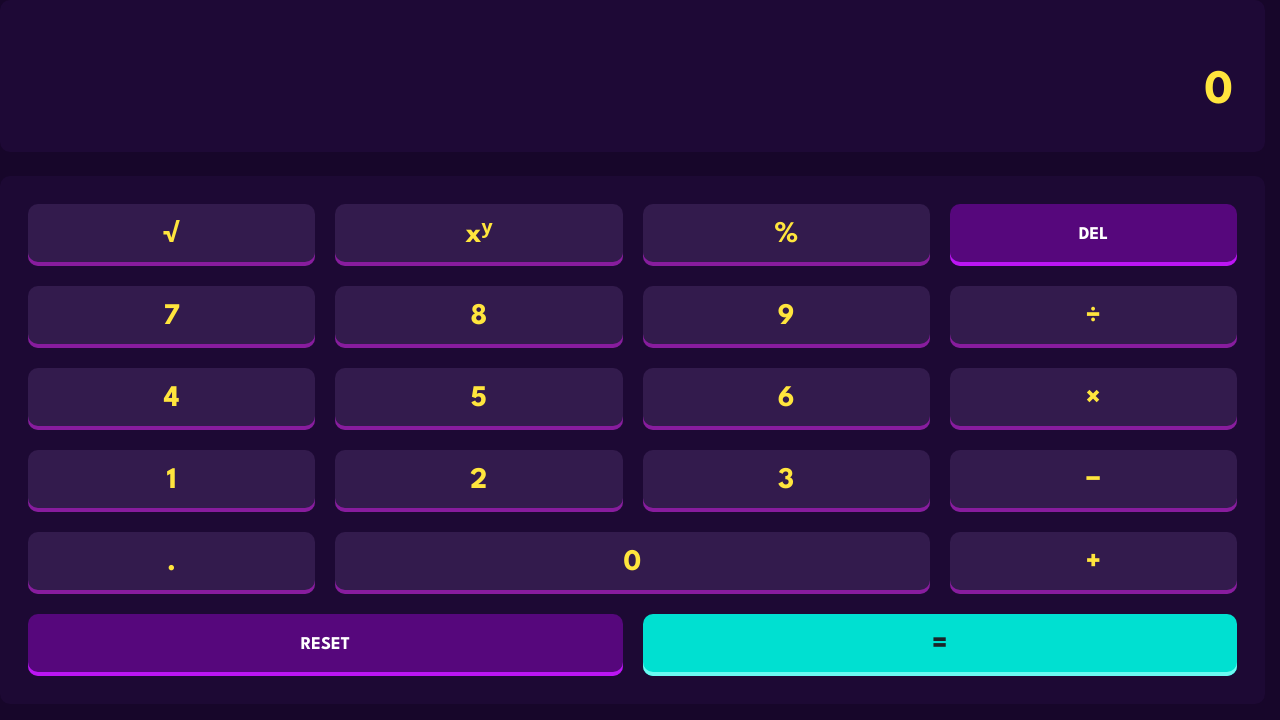
Calculator › error handling › shows the message returned by the API
Step 1. Click the button "9" → (786, 317), box [642,286,930,348]
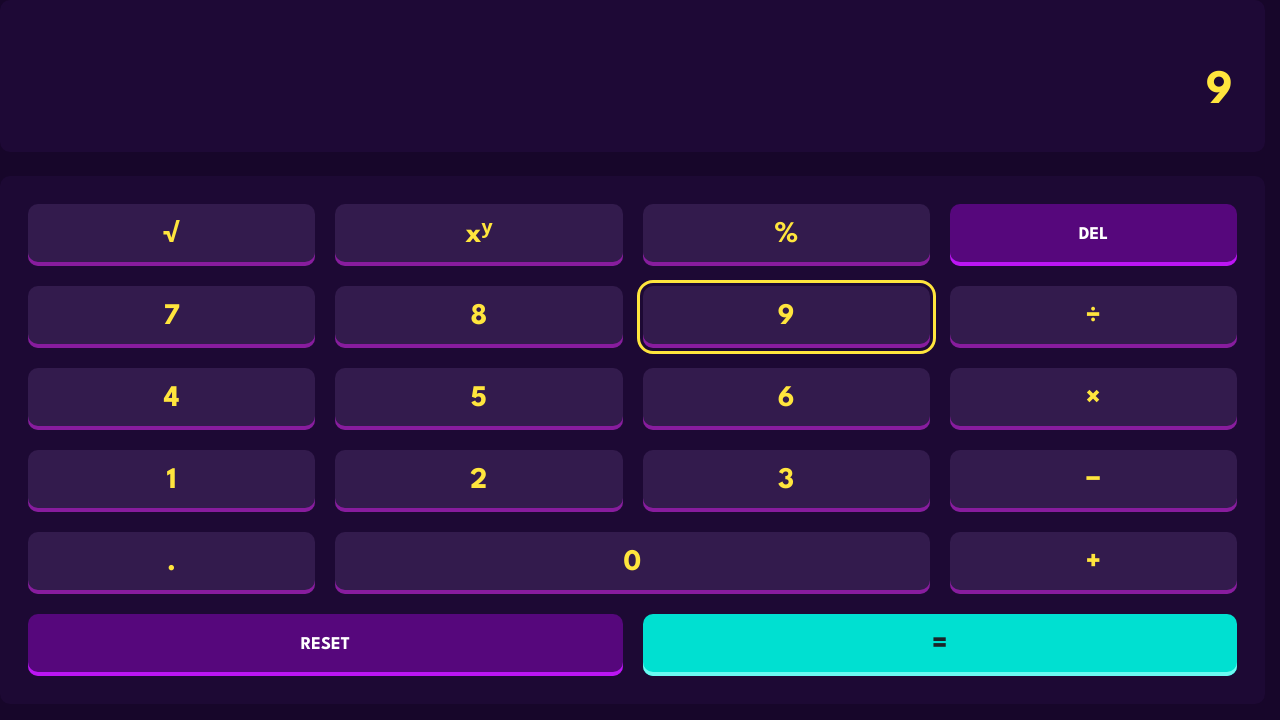
Step 2. Click the button "xʸ" → (479, 235), box [335,204,623,266]
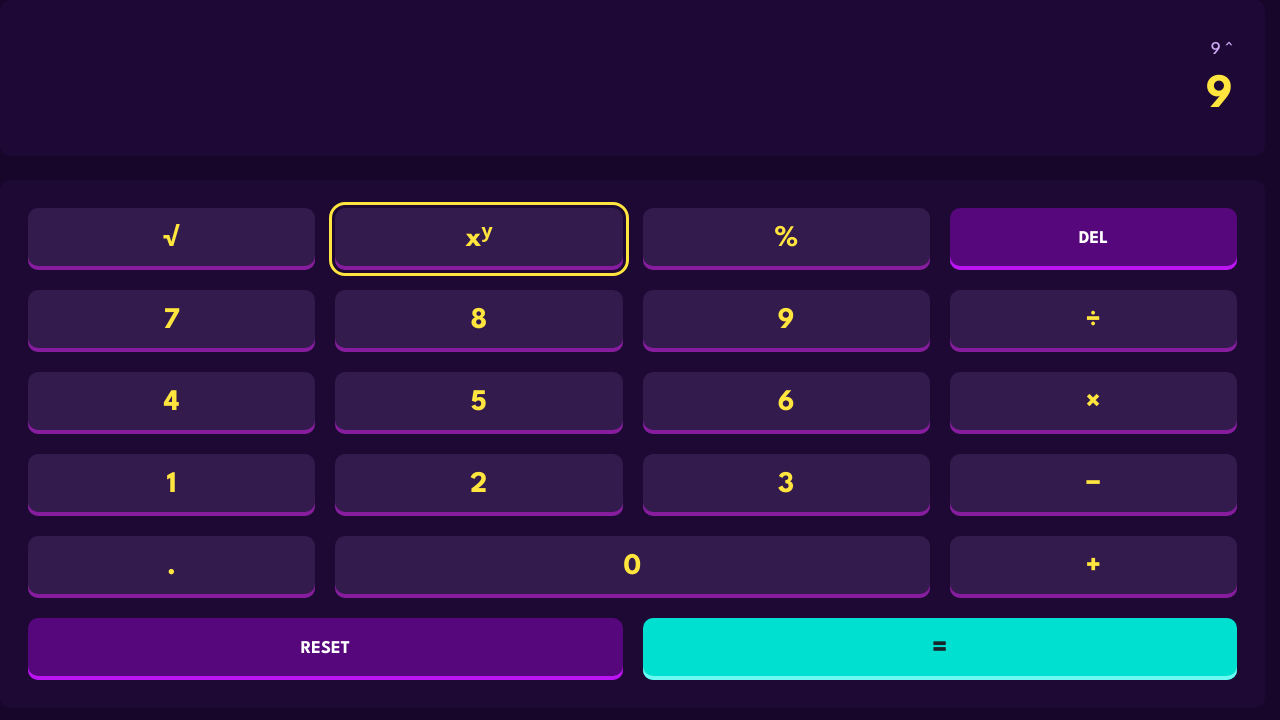
Step 3. Click the button "9" → (786, 321), box [642,290,930,352]
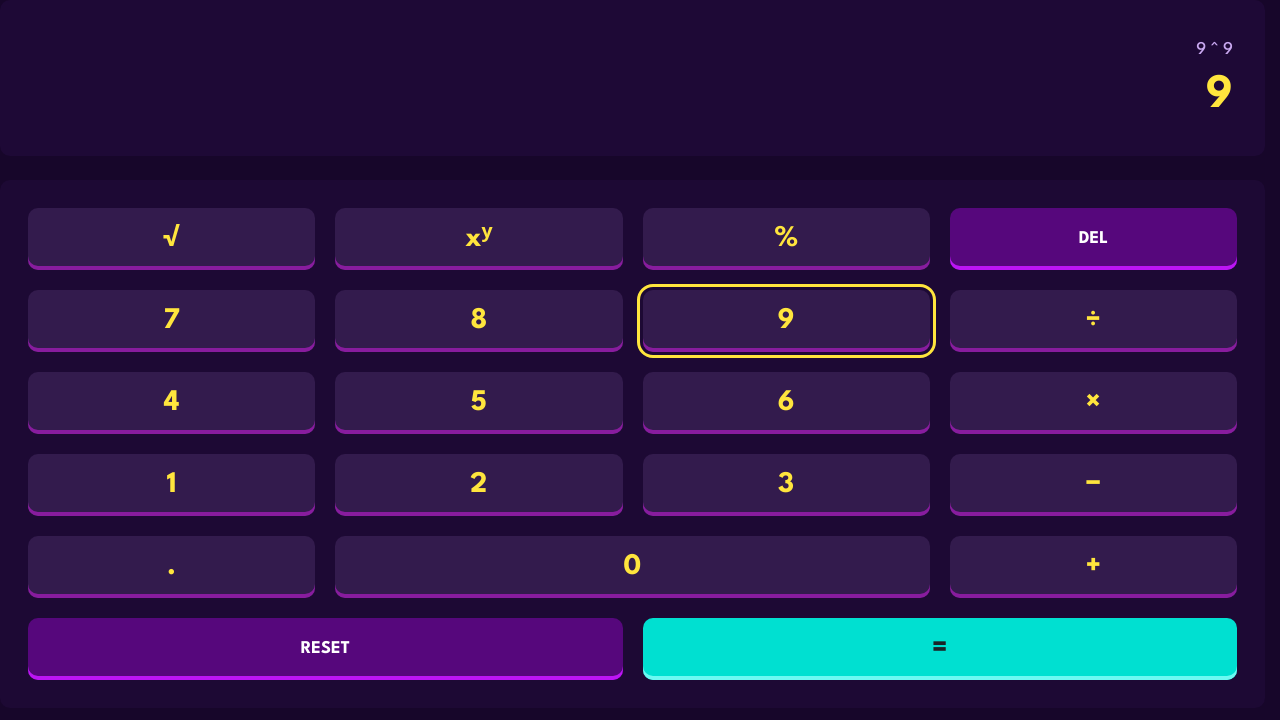
Step 4. Click the button with test id "key-equals" → (940, 649), box [642,618,1237,680]
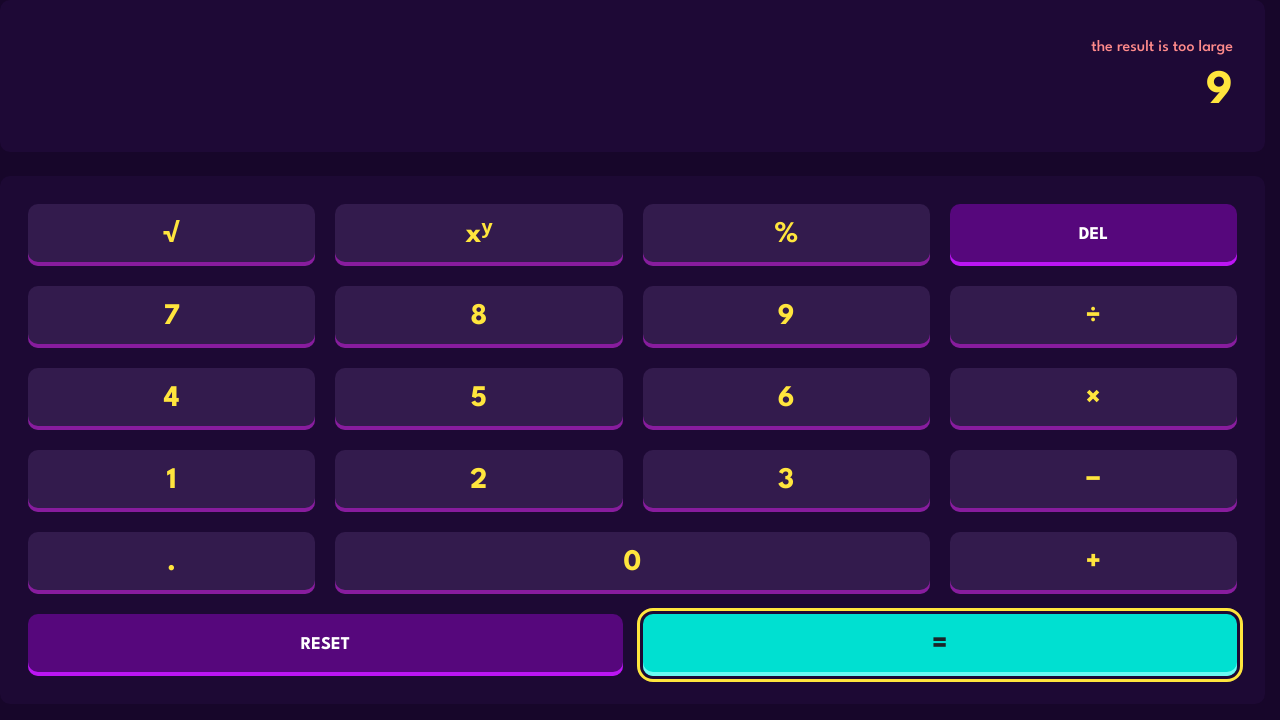
Now the message reads "the result is too large", box [1091,40,1233,55]
